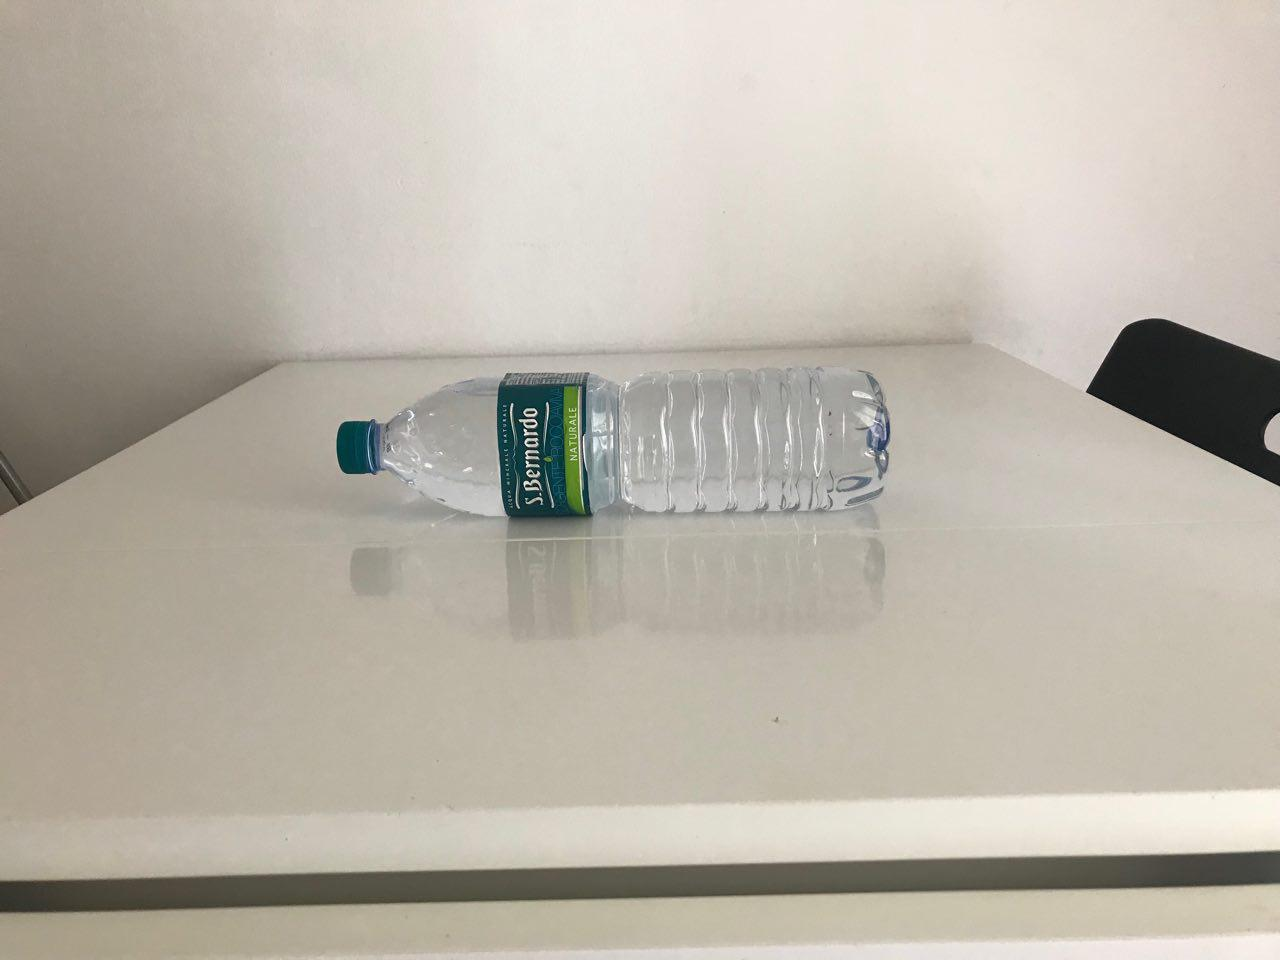san_bernardo: (335, 362, 892, 518)
